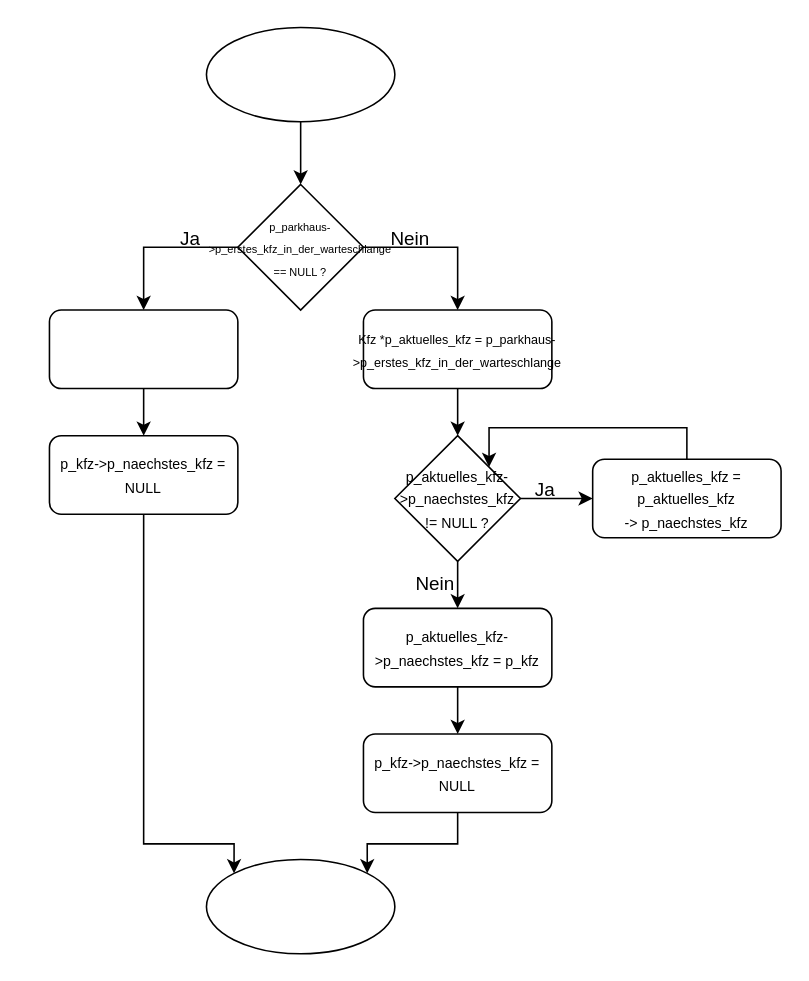
Image size: 809x981. Some labels were removed from this diagram. Here are the shapes that lost their labels. From the top down, the box of each, then its label:
(205, 26, 395, 122): Start
(48, 309, 238, 389): p_parkhaus->p_erstes_kfz_in_der_warteschlange = p_kfz
(205, 858, 395, 954): Ende
